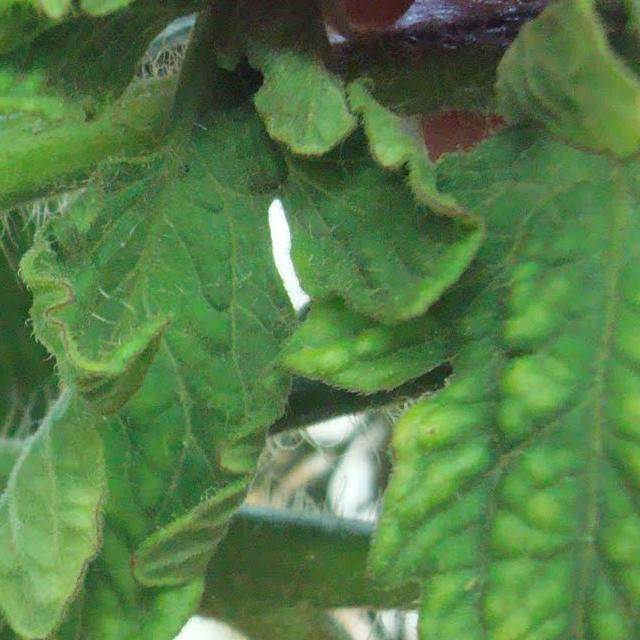Tomato leaf mosaic virus: (0, 64, 472, 640), (316, 59, 640, 640)
